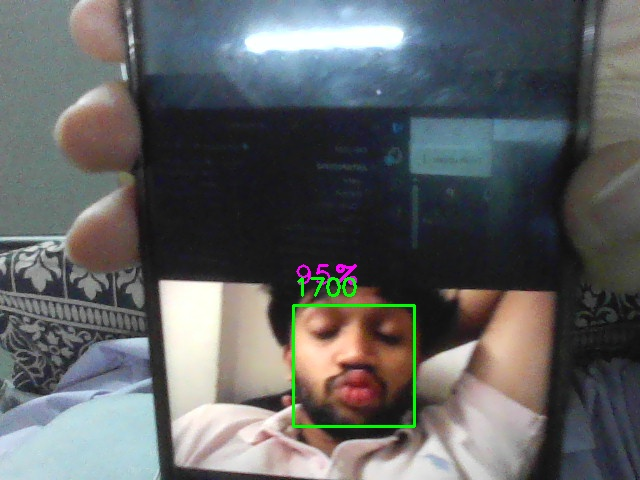fake: (293, 305, 415, 427)
